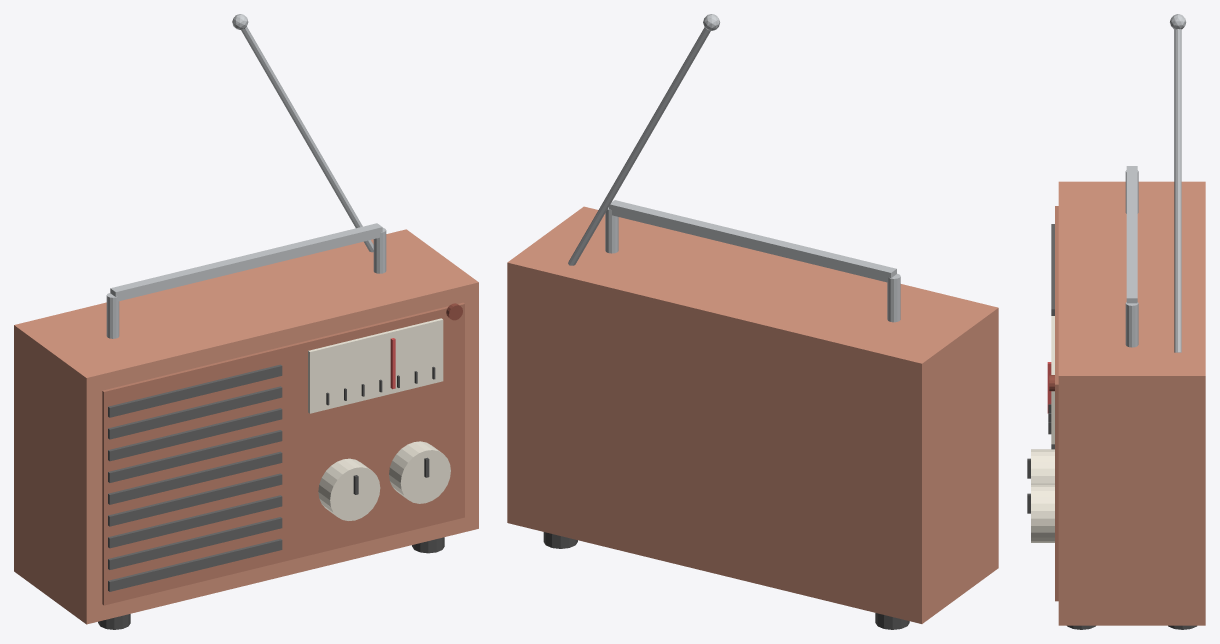
The model's file is radio.glb.
The picture shows the model from 3 angles, left to right: view 1: azimuth 30°, elevation 25°; view 2: azimuth 150°, elevation 25°; view 3: azimuth 270°, elevation 25°; orthographic projection. The views are drawn at different scales.
Parts seen in each view (by area): view 1: cuerpo, panel_frontal, dial, asa_barra, perilla_volumen, perilla_sintonia, rejilla_1, rejilla_2, rejilla_6, rejilla_7, rejilla_0, rejilla_3 (+4 smaller); view 2: cuerpo, asa_barra, antena; view 3: cuerpo, antena, asa_barra, panel_frontal, perilla_volumen, perilla_sintonia, asa_der, dial, rejilla_0.
Boxes of the visible parts, box(x1,y1,x2,y2) form: cuerpo: box(14, 229, 478, 624); panel_frontal: box(102, 302, 464, 605); dial: box(308, 318, 443, 413); asa_barra: box(110, 223, 382, 301); perilla_volumen: box(389, 441, 450, 503); perilla_sintonia: box(318, 458, 380, 520); rejilla_1: box(108, 386, 282, 439); rejilla_2: box(108, 408, 282, 461); rejilla_6: box(108, 495, 282, 548); rejilla_7: box(108, 517, 282, 569); rejilla_0: box(108, 364, 282, 417); rejilla_3: box(108, 430, 282, 482); cuerpo: box(507, 206, 998, 623); asa_barra: box(609, 200, 896, 282); antena: box(568, 27, 710, 265); cuerpo: box(1058, 181, 1205, 625); antena: box(1174, 29, 1181, 352); asa_barra: box(1126, 166, 1137, 303); panel_frontal: box(1055, 206, 1058, 601); perilla_volumen: box(1031, 484, 1054, 542); perilla_sintonia: box(1031, 449, 1054, 484); asa_der: box(1125, 302, 1138, 347); dial: box(1051, 316, 1054, 444); rejilla_0: box(1051, 224, 1054, 315).
Size of the model in its own units: 0.5 by 0.6469 by 0.194.
